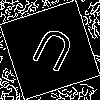U: (25, 25, 78, 82)
